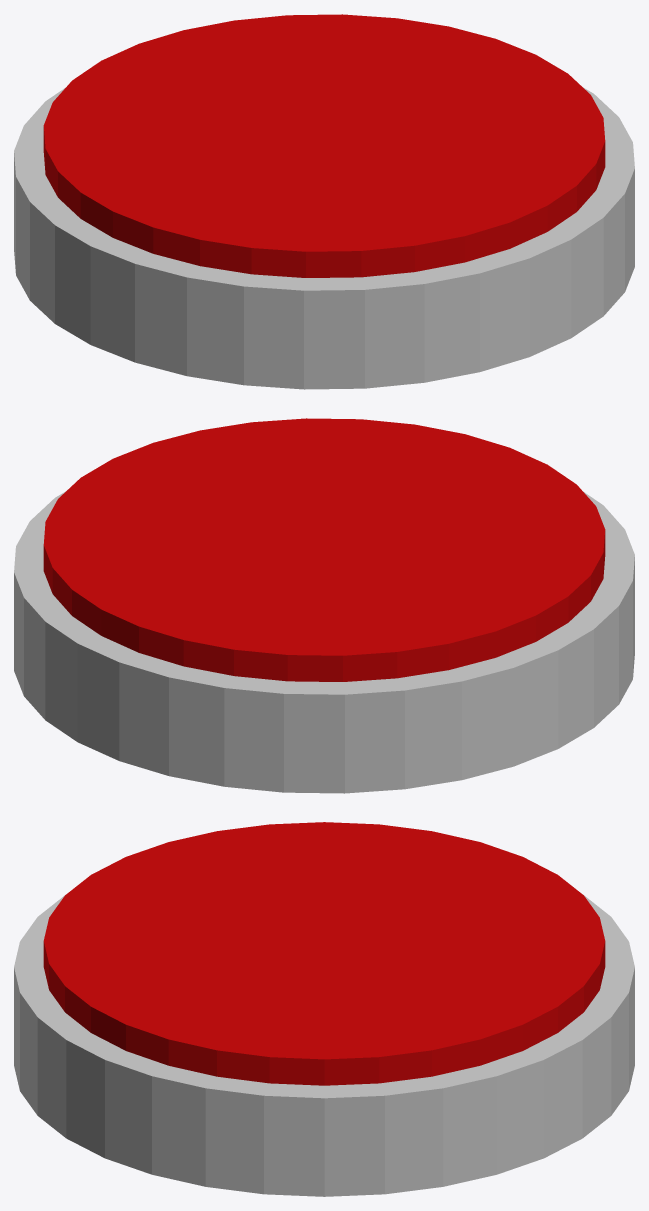
The model's file is redbutton.obj.
The picture shows the model from 3 angles, top to bottom: view 1: azimuth 30°, elevation 25°; view 2: azimuth 150°, elevation 25°; view 3: azimuth 270°, elevation 25°; orthographic projection.
Parts seen in each view (by area): view 1: Cylinder.001, Cylinder; view 2: Cylinder.001, Cylinder; view 3: Cylinder.001, Cylinder.
Part boxes in pixels (box(x1,y1,x2,y2)): Cylinder.001: box(43, 14, 605, 277); Cylinder: box(14, 87, 634, 389); Cylinder.001: box(43, 418, 605, 681); Cylinder: box(14, 491, 634, 793); Cylinder.001: box(43, 822, 605, 1085); Cylinder: box(14, 894, 634, 1196).
Bounding box in the file's own units: 2 × 0.4438 × 2.
